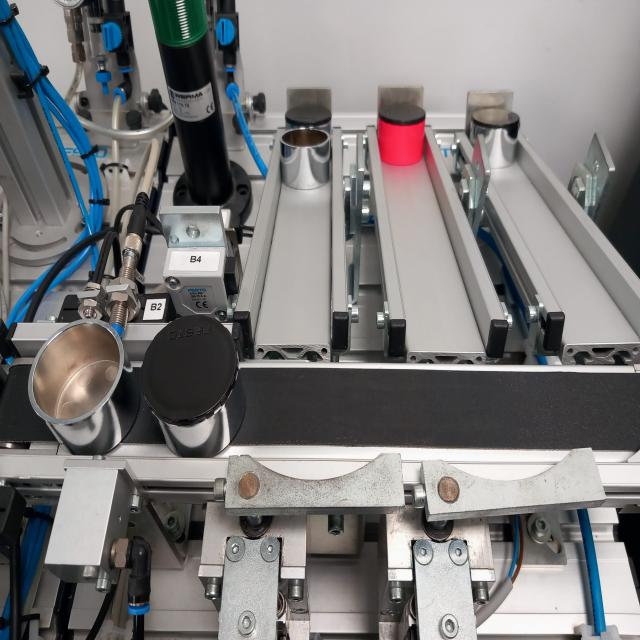NoLid: (18, 314, 140, 447), (278, 124, 336, 194)
Workpiece: (139, 315, 255, 457), (376, 96, 434, 164), (473, 105, 526, 169), (278, 91, 338, 125)
